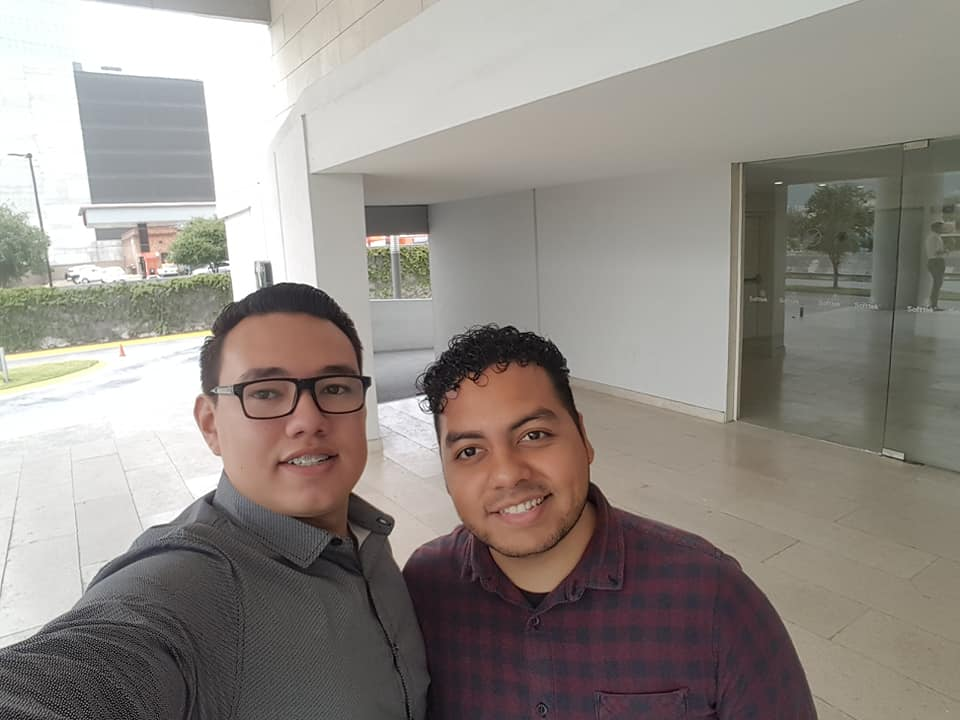Yoshi: (388, 284, 723, 636)
